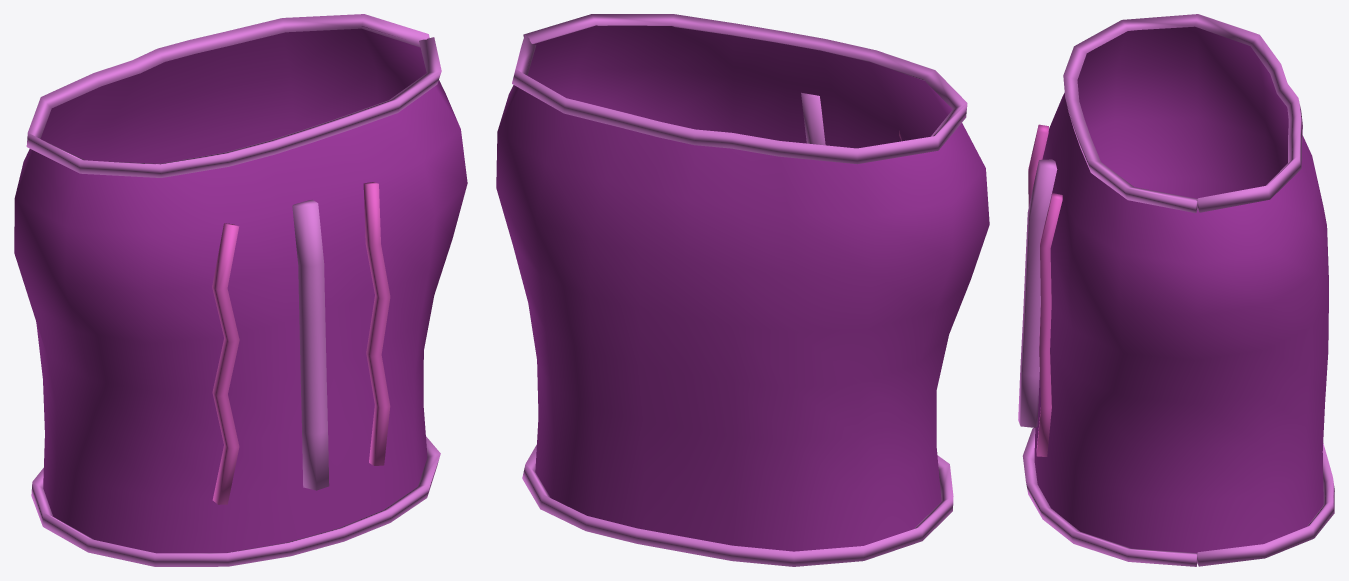
Rendered from nebula_armor_chest.glb.
3 renders of one model, left to right at view 1: azimuth 30°, elevation 25°; view 2: azimuth 150°, elevation 25°; view 3: azimuth 270°, elevation 25°, orthographic. The views are drawn at different scales.
Parts seen in each view (by area): view 1: nebula_armor_chest; view 2: nebula_armor_chest; view 3: nebula_armor_chest.
Boxes of the visible parts, box(x1,y1,x2,y2) form: nebula_armor_chest: box(14, 14, 467, 566); nebula_armor_chest: box(496, 14, 989, 566); nebula_armor_chest: box(1018, 14, 1334, 566).
Bounding box in the file's own units: 0.4364 × 0.3859 × 0.2937.
